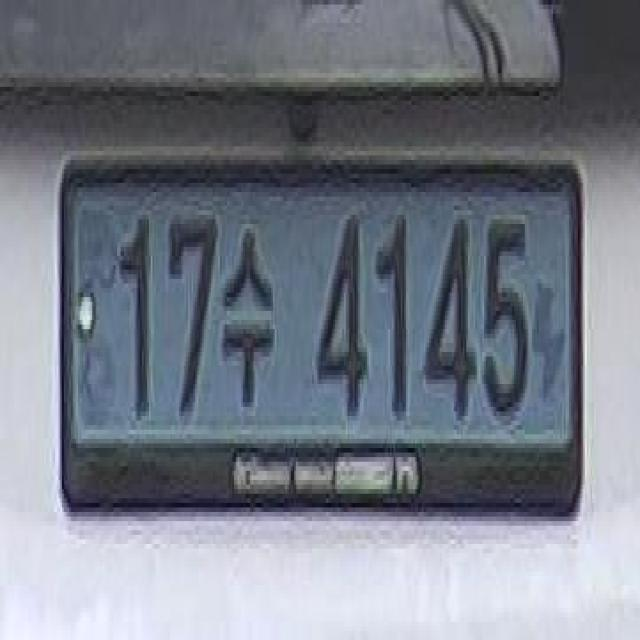EV_plate: (49, 132, 599, 546)
